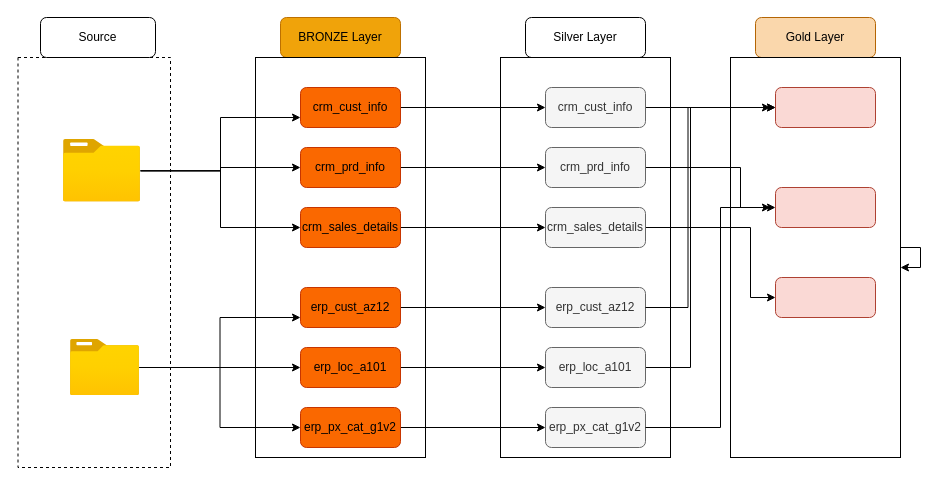
This 946x485 diagram has some shape labels left out. The shapes that lost their labels are listed below. From the top down, each one's box as (x1, y1, x2, y2) in pixels, then its label:
(774, 86, 876, 128): dim_customers
(63, 139, 140, 202): CRM
(774, 186, 876, 228): dim_products
(774, 276, 876, 318): fact_sales
(70, 339, 139, 395): ERP
